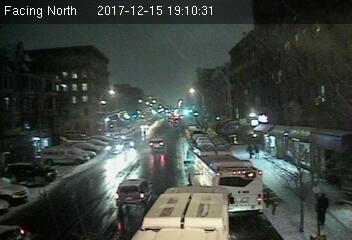bus: (184, 147, 263, 216)
car: (114, 178, 152, 207), (104, 140, 124, 153), (148, 136, 165, 148)
